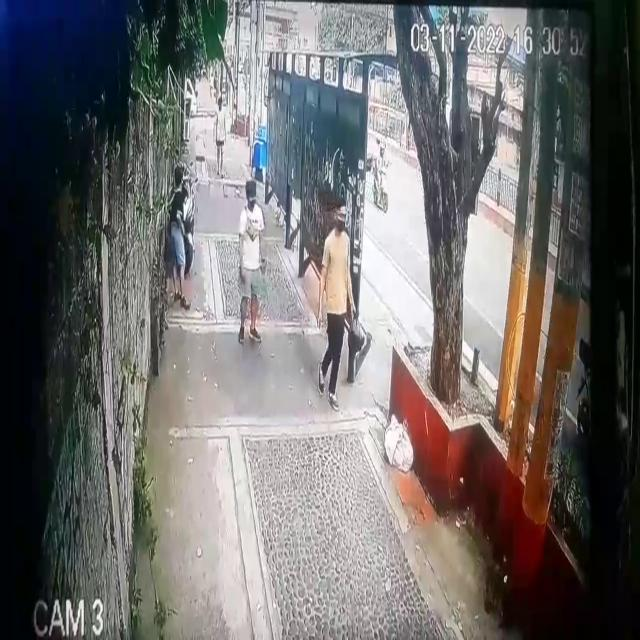human: (318, 194, 366, 409)
trash: (344, 300, 374, 384), (382, 406, 416, 473)
